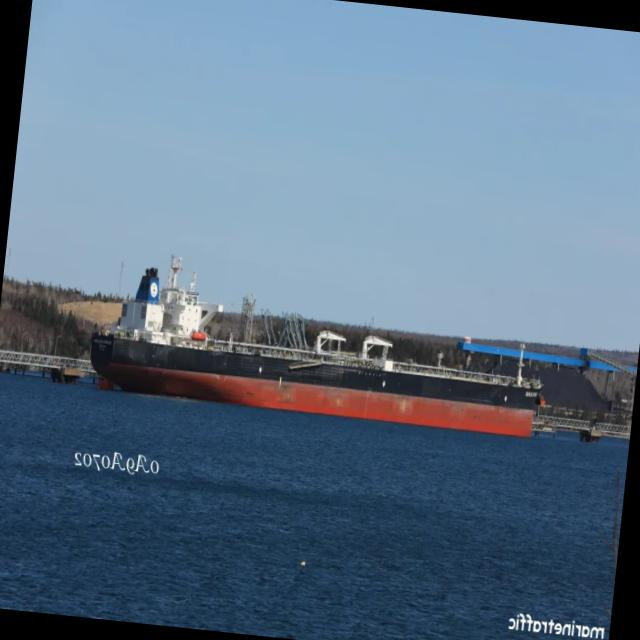Tanker: (90, 258, 544, 435)
